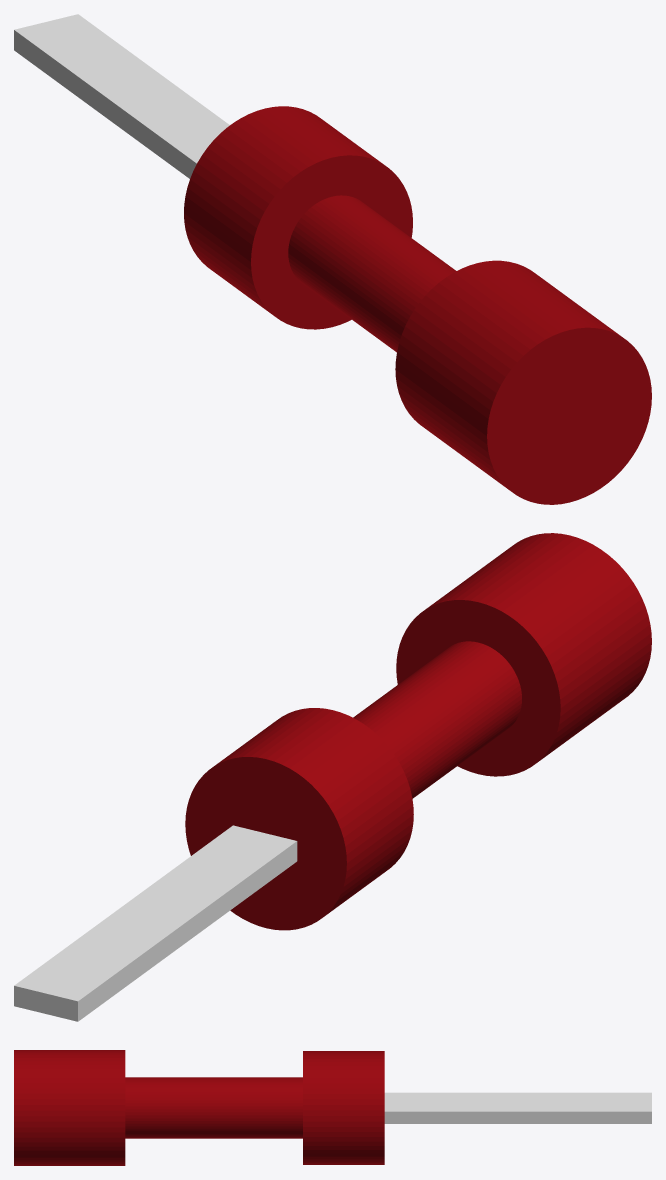
Rendered from KnifePottery.fbx.
3 views of the same model, one above another, from view 1: azimuth 30°, elevation 25°; view 2: azimuth 150°, elevation 25°; view 3: azimuth 270°, elevation 25° (orthographic). The views are drawn at different scales.
Visible parts, largest first — view 1: Cylinder.001; view 2: Cylinder.001; view 3: Cylinder.001.
Boxes of the visible parts, bbox=[...] form: Cylinder.001: bbox=[14, 14, 651, 504]; Cylinder.001: bbox=[14, 533, 651, 1021]; Cylinder.001: bbox=[14, 1050, 651, 1165].
Size of the model in its own units: 28.46 by 28.46 by 157.
